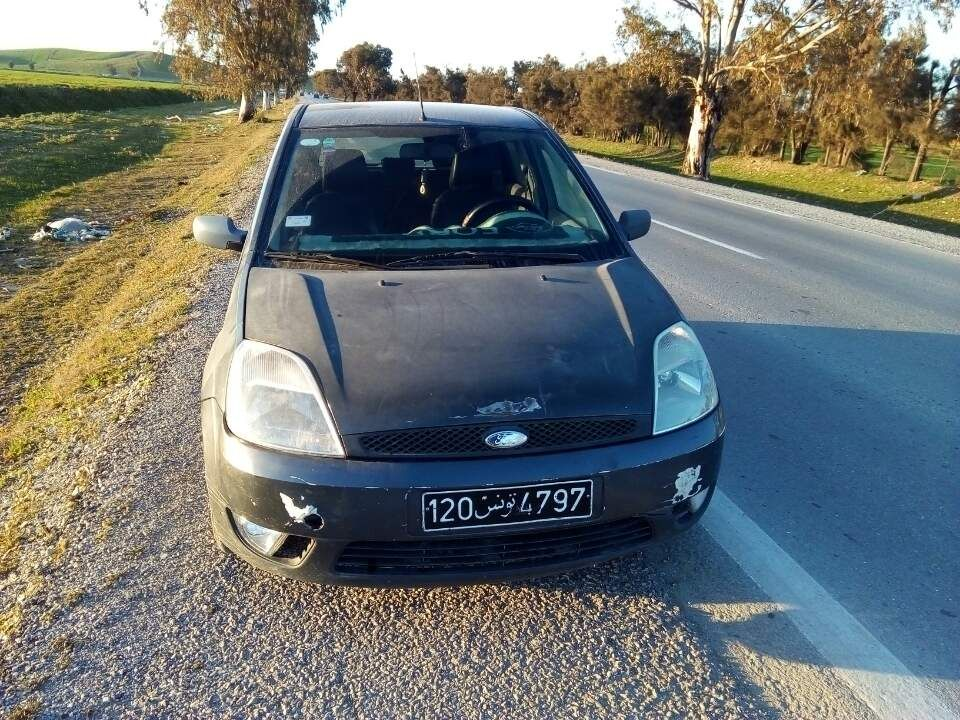LP: (419, 479, 597, 533)
